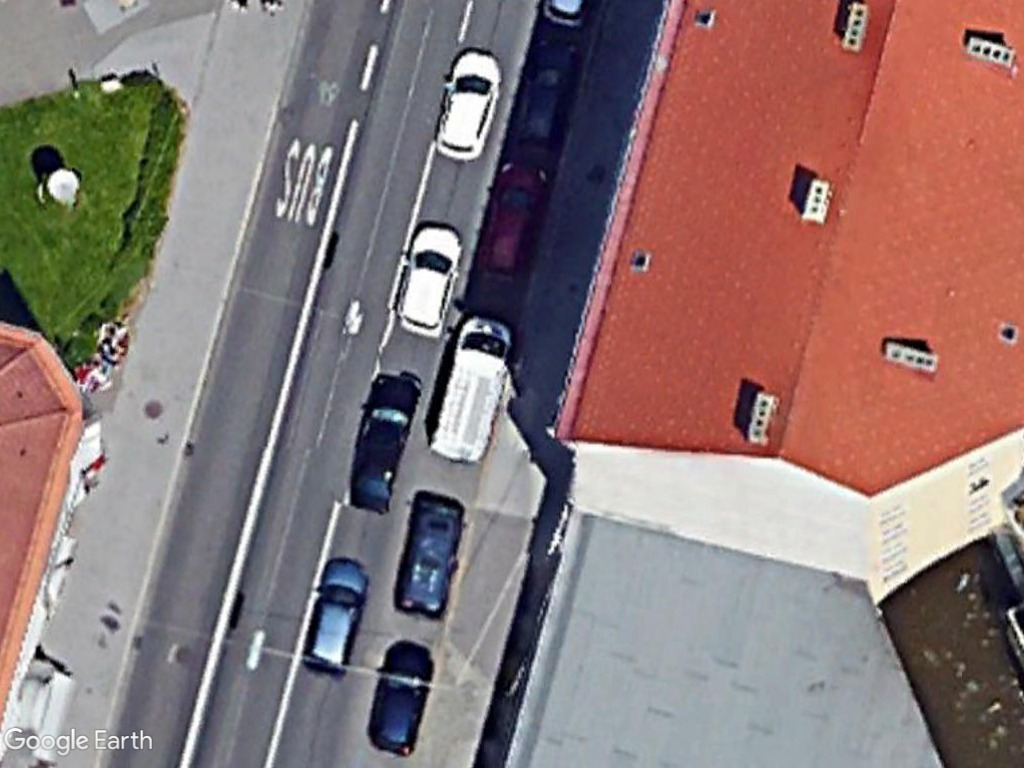car: (343, 366, 426, 506), (474, 156, 550, 284), (363, 635, 438, 759), (299, 554, 369, 683), (432, 43, 506, 164), (394, 219, 465, 338)
van: (426, 310, 517, 465)
